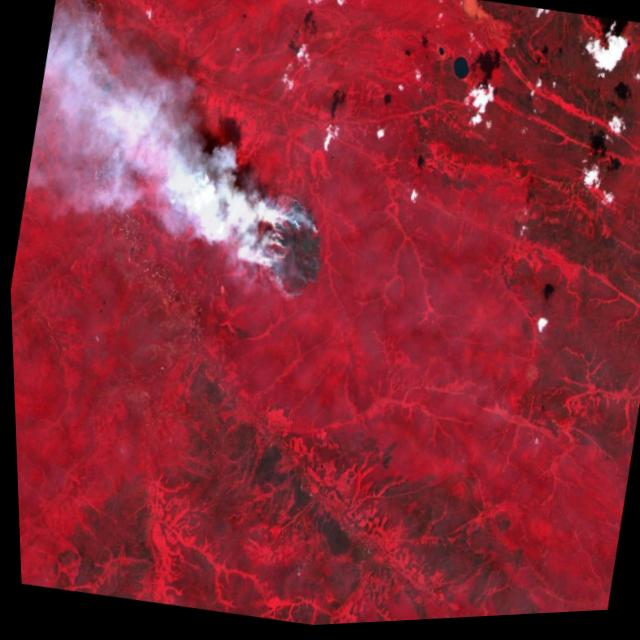fire: (251, 187, 338, 311)
